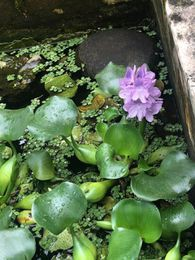water_hyacinth: (0, 63, 195, 260)
